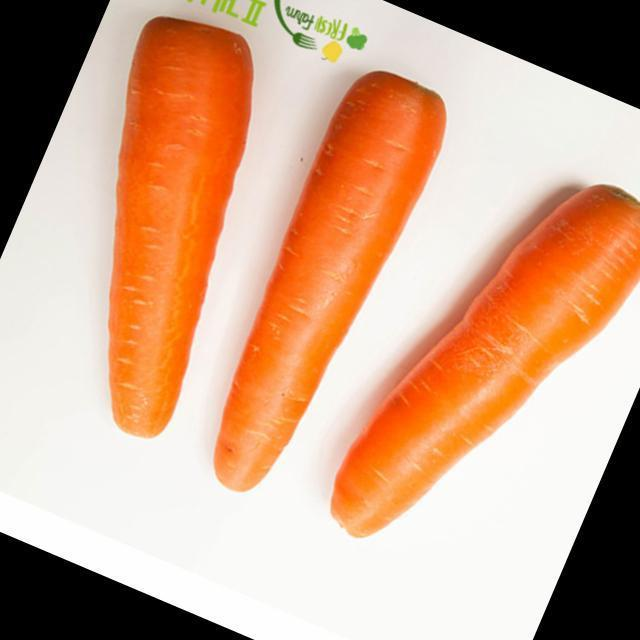Carrot: (331, 185, 640, 536), (215, 71, 446, 491), (109, 18, 252, 437)
